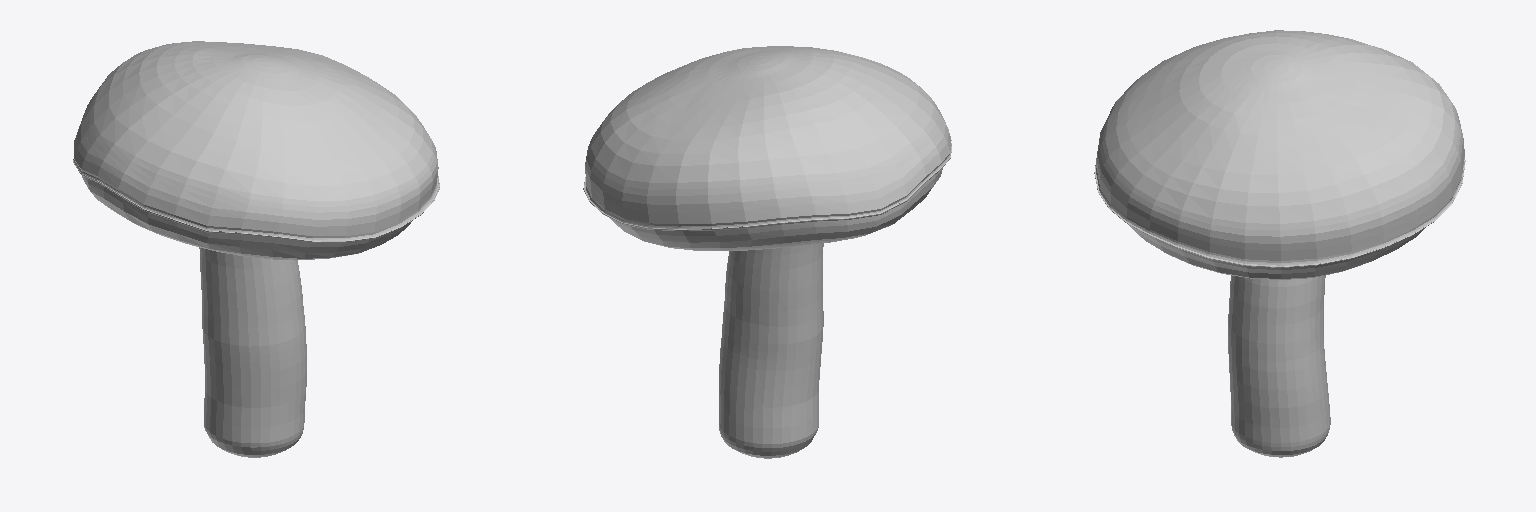
Rendered from moxovik-zelenyj.obj.
3 views of the same model, side by side, from view 1: azimuth 30°, elevation 25°; view 2: azimuth 150°, elevation 25°; view 3: azimuth 270°, elevation 25° (orthographic).
Visible parts, largest first — view 1: Cylinder; view 2: Cylinder; view 3: Cylinder.
Boxes of the visible parts, <box> form: Cylinder: <box>73,41,439,457</box>; Cylinder: <box>583,46,951,458</box>; Cylinder: <box>1094,30,1465,457</box>.
Bounding box in the file's own units: 1.98 × 2.33 × 2.01.